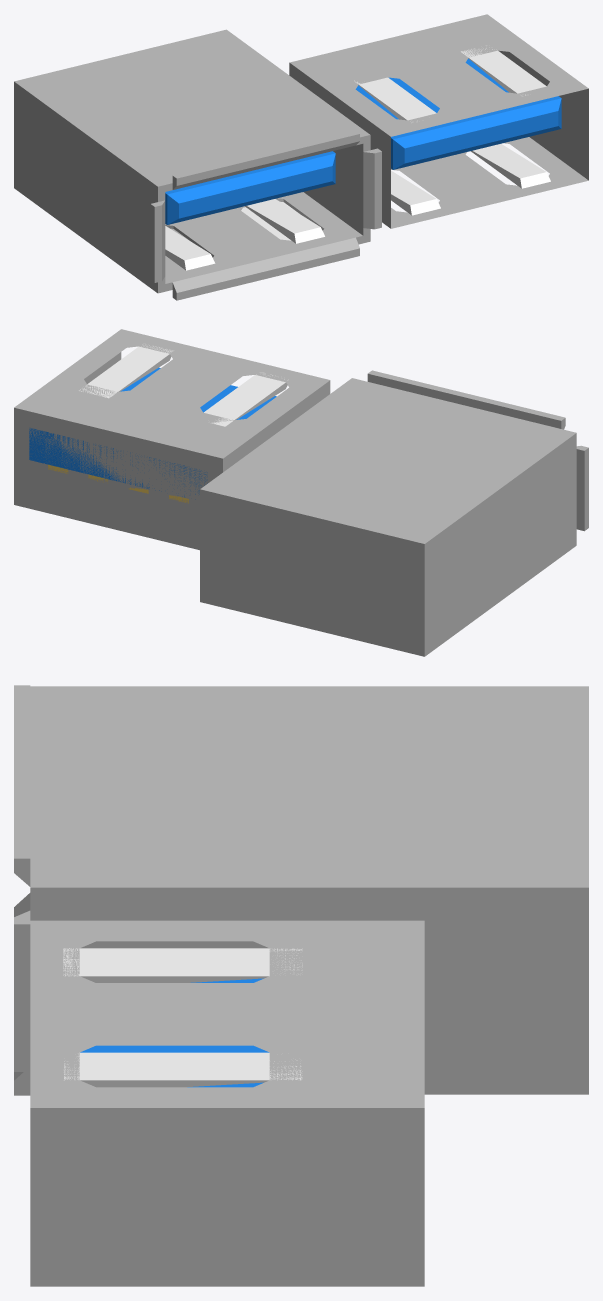
Rendered from USB.obj.
3 views of the same model, one above another, from view 1: azimuth 30°, elevation 25°; view 2: azimuth 150°, elevation 25°; view 3: azimuth 270°, elevation 25° (orthographic). The views are drawn at different scales.
Visible parts, largest first — view 1: Mesh11 Group18 Group17 Group16 Model, Mesh6 Group9 Group1 Model, Mesh21 Group32 Group24 Group16 Model, Mesh1 Group3 Group2 Group1 Model, Mesh16 Group26 Group25 Group24 Group16 Model, Mesh10 Group15 Group13 Group1 Model, Mesh8 Group12 Group10 Group1 Model, Mesh23 Group35 Group33 Group24 Group16 Model, Mesh9 Group14 Group13 Group1 Model, Mesh22 Group34 Group33 Group24 Group16 Model, Mesh7 Group11 Group10 Group1 Model, Mesh14 Group22 Group19 Group17 Group16 Model; view 2: Mesh11 Group18 Group17 Group16 Model, Mesh6 Group9 Group1 Model, Mesh1 Group3 Group2 Group1 Model, Mesh10 Group15 Group13 Group1 Model, Mesh9 Group14 Group13 Group1 Model; view 3: Mesh11 Group18 Group17 Group16 Model, Mesh6 Group9 Group1 Model, Mesh9 Group14 Group13 Group1 Model, Mesh10 Group15 Group13 Group1 Model, Mesh1 Group3 Group2 Group1 Model.
Boxes of the visible parts, x1,y1,x2,y2 form: Mesh11 Group18 Group17 Group16 Model: (14,29,381,300); Mesh6 Group9 Group1 Model: (289,14,588,228); Mesh21 Group32 Group24 Group16 Model: (165,144,363,283); Mesh1 Group3 Group2 Group1 Model: (355,58,561,169); Mesh16 Group26 Group25 Group24 Group16 Model: (165,151,335,224); Mesh10 Group15 Group13 Group1 Model: (461,45,546,96); Mesh8 Group12 Group10 Group1 Model: (471,144,550,188); Mesh23 Group35 Group33 Group24 Group16 Model: (245,199,324,243); Mesh9 Group14 Group13 Group1 Model: (354,77,436,122); Mesh22 Group34 Group33 Group24 Group16 Model: (165,226,215,270); Mesh7 Group11 Group10 Group1 Model: (391,170,440,215); Mesh14 Group22 Group19 Group17 Group16 Model: (240,198,323,240); Mesh11 Group18 Group17 Group16 Model: (200,370,588,656); Mesh6 Group9 Group1 Model: (14,329,330,550); Mesh1 Group3 Group2 Group1 Model: (29,367,276,499); Mesh10 Group15 Group13 Group1 Model: (79,344,173,398); Mesh9 Group14 Group13 Group1 Model: (204,372,288,426); Mesh11 Group18 Group17 Group16 Model: (14,685,588,1095); Mesh6 Group9 Group1 Model: (30,920,424,1286); Mesh9 Group14 Group13 Group1 Model: (63,948,302,982); Mesh10 Group15 Group13 Group1 Model: (64,1052,302,1087); Mesh1 Group3 Group2 Group1 Model: (80,978,269,1087).
Bounding box in the file's own units: 16.74 × 4.46 × 9.8.
